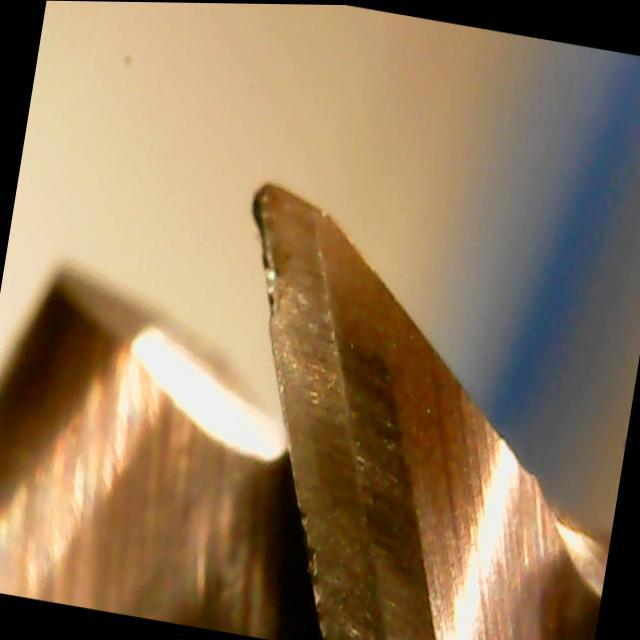Tool-wear-class-1: (203, 172, 434, 439)
